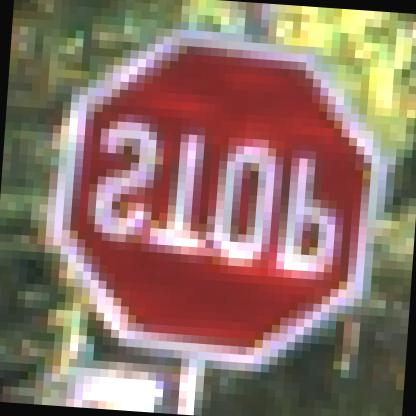stop: (42, 28, 402, 379)
